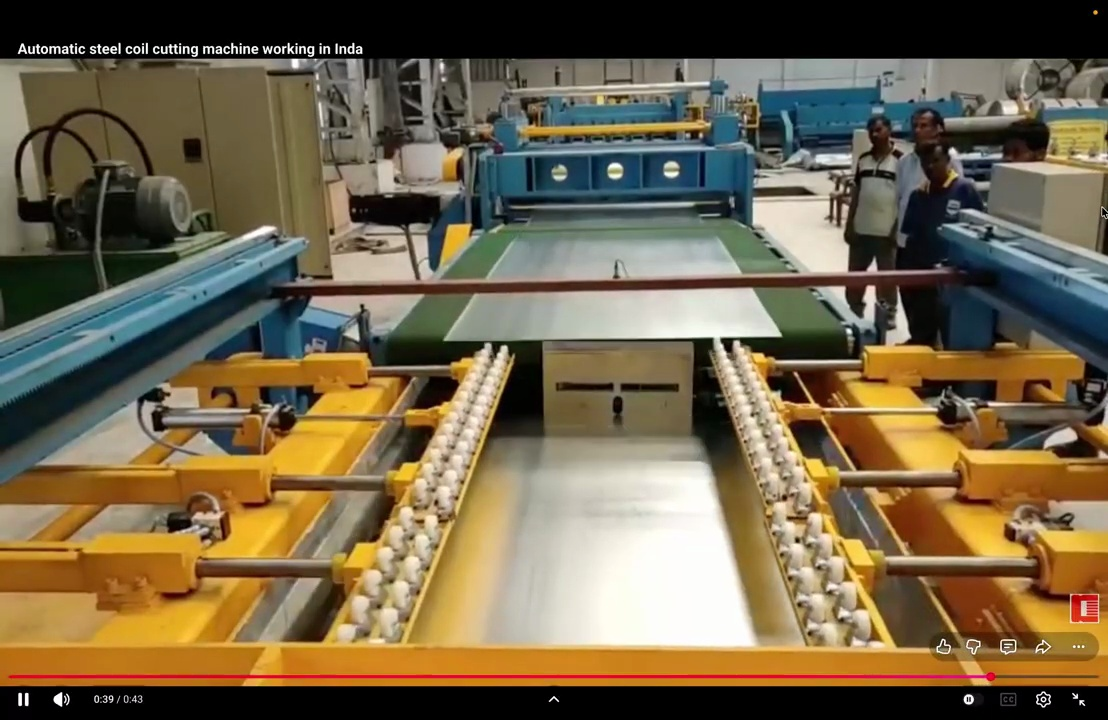steel plate: (446, 289, 779, 341), (526, 208, 702, 228)
